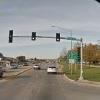Traffic light: (7, 24, 63, 53)
